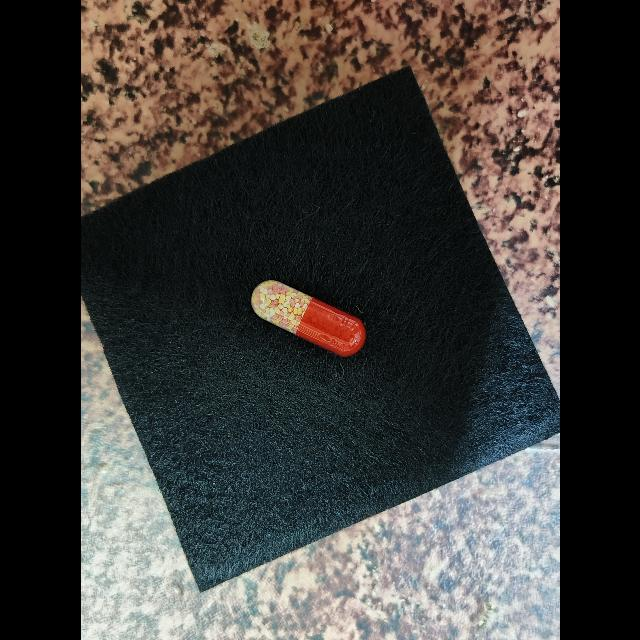Intact Capsule: (251, 280, 365, 356)
